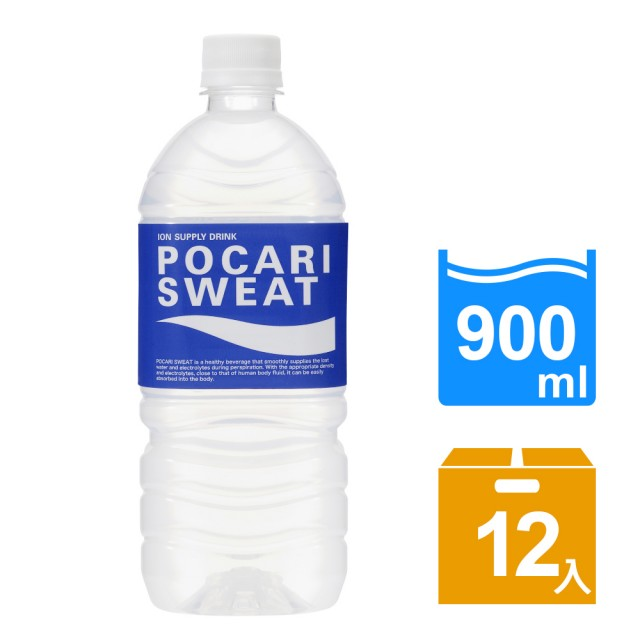POCARI SWEAT: (125, 36, 355, 616)
